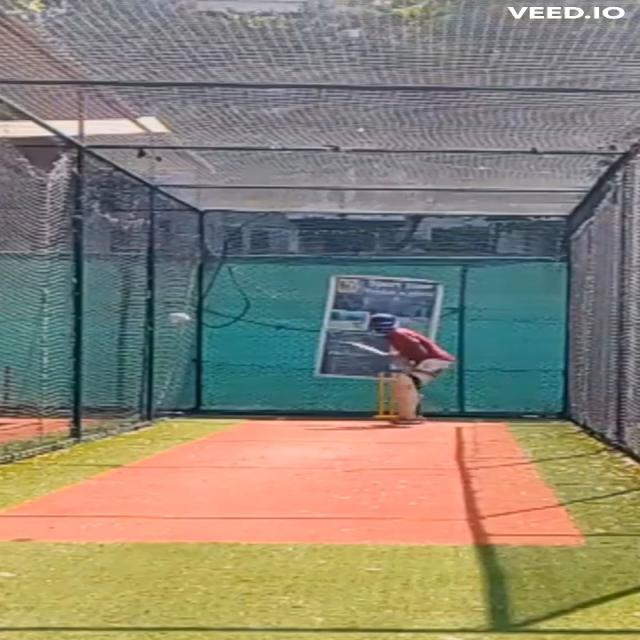ball: (163, 308, 190, 328)
stump: (376, 369, 409, 420)
